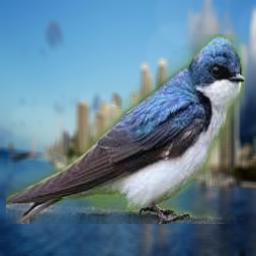Swallow: (6, 34, 245, 224)
